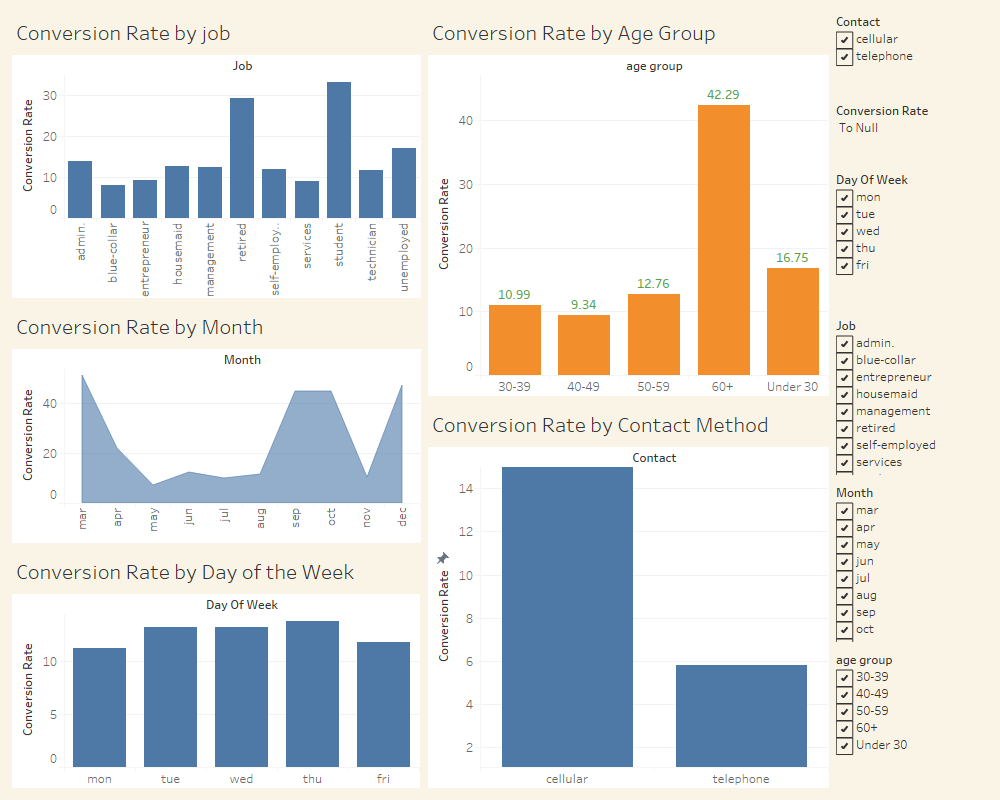

The dashboard page shown, as its layout file describes it:
{"tool":"tableau","page":{"name":"Dashboard","canvas":[1000,800],"ordinal":0},"visuals":[{"type":"worksheet","title":"Conversion Rate by Month","mark":"Area","rows":["Calculation_1932607230165790722"],"cols":["month"],"box":[8,8,416,294]},{"type":"worksheet","title":"Conversion Rate by Age Group","mark":"Automatic","rows":["Calculation_1932607230165790722"],"cols":["Calculation_1932607230168760323"],"box":[424,8,408,392]},{"type":"filter","title":"Conversion Rate by Age Group","param":"[federated.0rwu9e113d75kp16zetiz0cknyrt].[none:contact:nk]","box":[832,8,160,89]},{"type":"filter","title":"Conversion Rate by Age Group","param":"[federated.0rwu9e113d75kp16zetiz0cknyrt].[usr:Calculation_1932607230165790722:qk","box":[832,97,160,69]},{"type":"filter","title":"Conversion Rate by Age Group","param":"[federated.0rwu9e113d75kp16zetiz0cknyrt].[none:day_of_week:nk]","box":[832,166,160,146]},{"type":"worksheet","title":"Conversion Rate by Day of the Week","mark":"Bar","rows":["Calculation_1932607230165790722"],"cols":["day_of_week"],"box":[8,302,206,490]},{"type":"worksheet","title":"Conversion Rate by job ","mark":"Bar","rows":["Calculation_1932607230165790722"],"cols":["job"],"box":[214,302,210,490]},{"type":"filter","title":"Conversion Rate by Age Group","param":"[federated.0rwu9e113d75kp16zetiz0cknyrt].[none:job:nk]","box":[832,312,160,167]},{"type":"worksheet","title":"Conversion Rate by Contact Method","mark":"Automatic","rows":["Calculation_1932607230165790722"],"cols":["contact"],"box":[424,400,408,392]},{"type":"filter","title":"Conversion Rate by Age Group","param":"[federated.0rwu9e113d75kp16zetiz0cknyrt].[none:month:nk]","box":[832,479,160,167]},{"type":"filter","title":"Conversion Rate by Age Group","param":"[federated.0rwu9e113d75kp16zetiz0cknyrt].[none:Calculation_1932607230168760323:n","box":[832,646,160,146]}]}

Visuals, with their boxes in screenshot pixels (x1, y1, x2, y2), scaled from the page's 1000x800 canvas onto the 1000x800 screenshot:
"Conversion Rate by Month" worksheet (Area marks): rect(8, 8, 424, 302)
"Conversion Rate by Age Group" worksheet: rect(424, 8, 832, 400)
"Conversion Rate by Age Group" filter: rect(832, 8, 992, 97)
"Conversion Rate by Age Group" filter: rect(832, 97, 992, 166)
"Conversion Rate by Age Group" filter: rect(832, 166, 992, 312)
"Conversion Rate by Day of the Week" worksheet (Bar marks): rect(8, 302, 214, 792)
"Conversion Rate by job " worksheet (Bar marks): rect(214, 302, 424, 792)
"Conversion Rate by Age Group" filter: rect(832, 312, 992, 479)
"Conversion Rate by Contact Method" worksheet: rect(424, 400, 832, 792)
"Conversion Rate by Age Group" filter: rect(832, 479, 992, 646)
"Conversion Rate by Age Group" filter: rect(832, 646, 992, 792)
